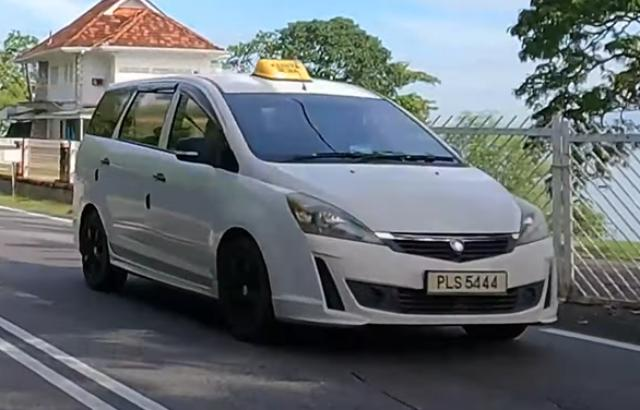License_Plate: (426, 270, 509, 296)
car: (72, 58, 560, 345)
